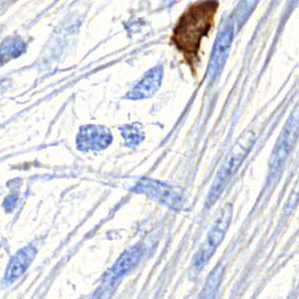Lymphocyte: (170, 1, 221, 74)
